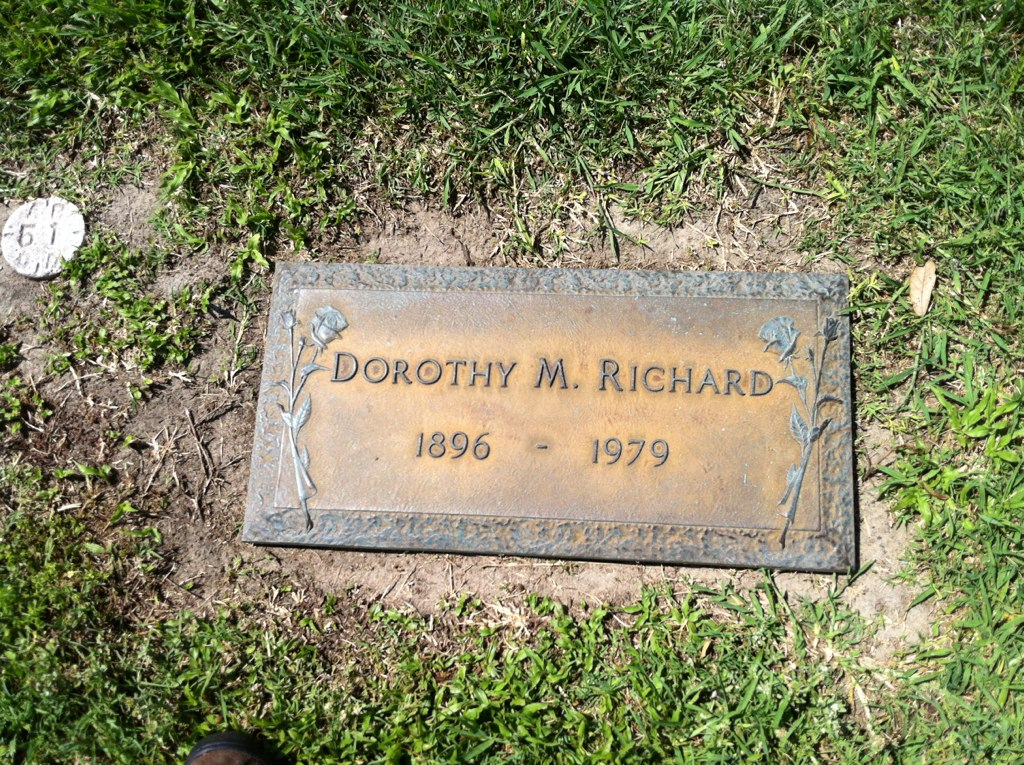flat: (226, 225, 933, 587)
